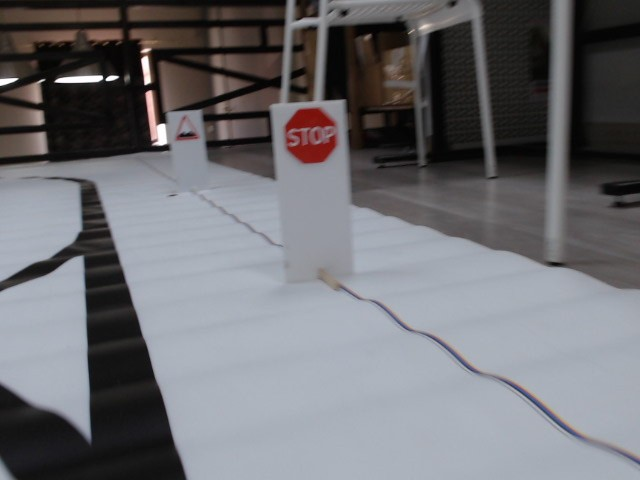Nerov: (174, 114, 202, 143)
Stop: (283, 106, 337, 168)
